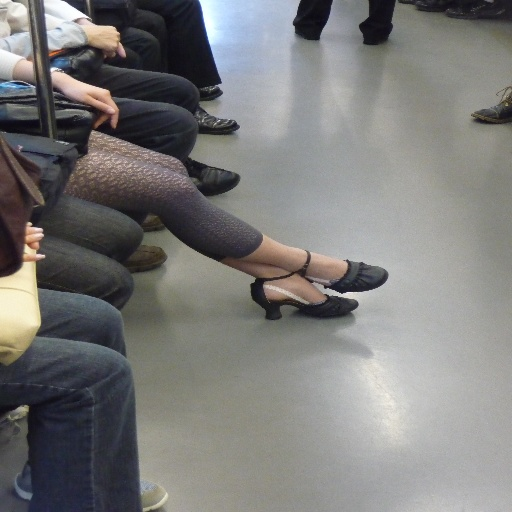hand: (55, 84, 118, 130), (79, 23, 118, 54), (95, 24, 128, 58), (24, 225, 46, 261), (25, 220, 40, 249)
